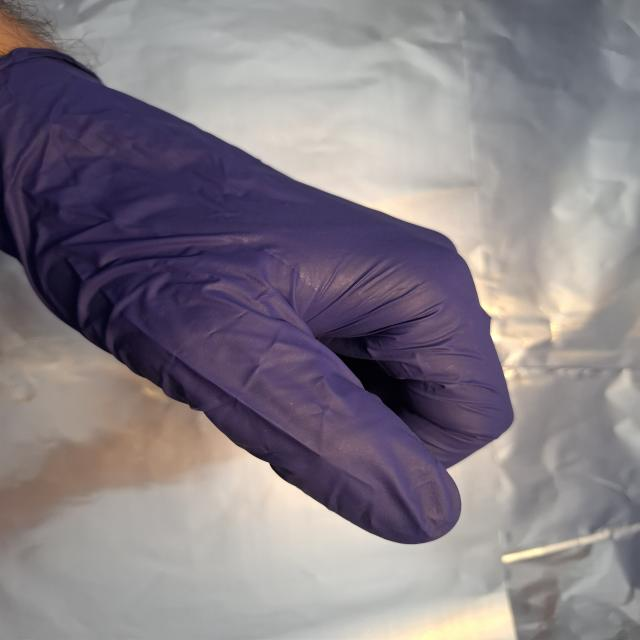glove_on: (0, 45, 519, 548)
